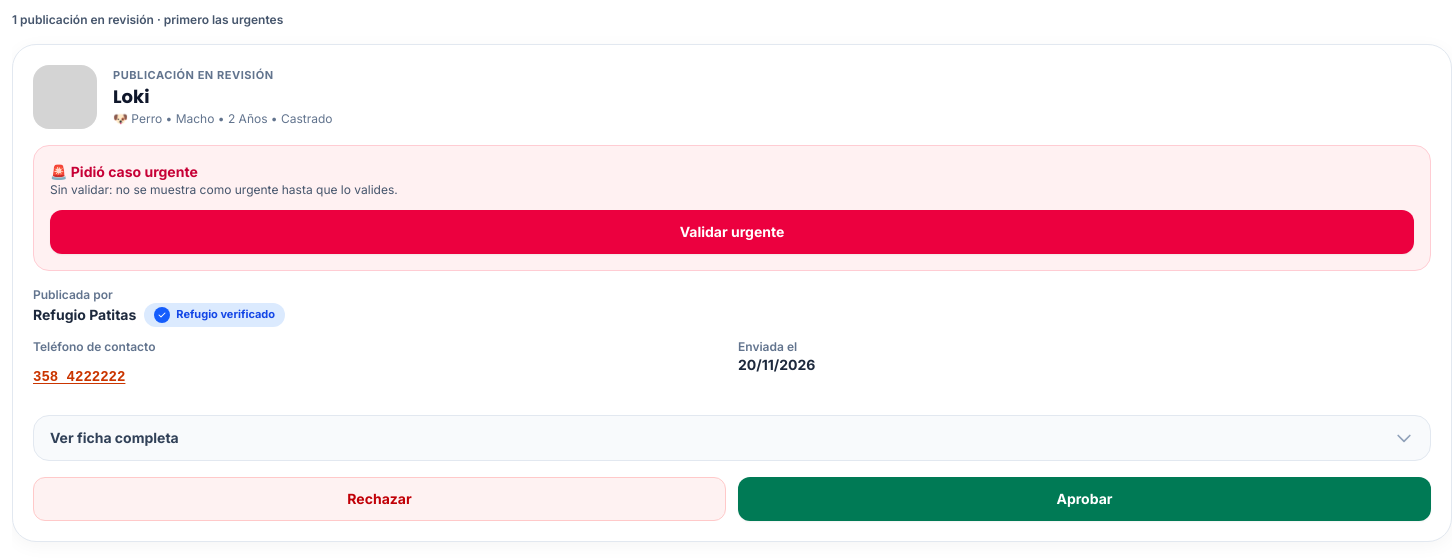
Scenario: PetReviewQueue › valida y quita la validación del caso urgente sin sacar la mascota de la cola
Later steps or results of the test are not shown.
Click the button "Validar urgente". click: (732, 232)
box: [50,210,1414,254]
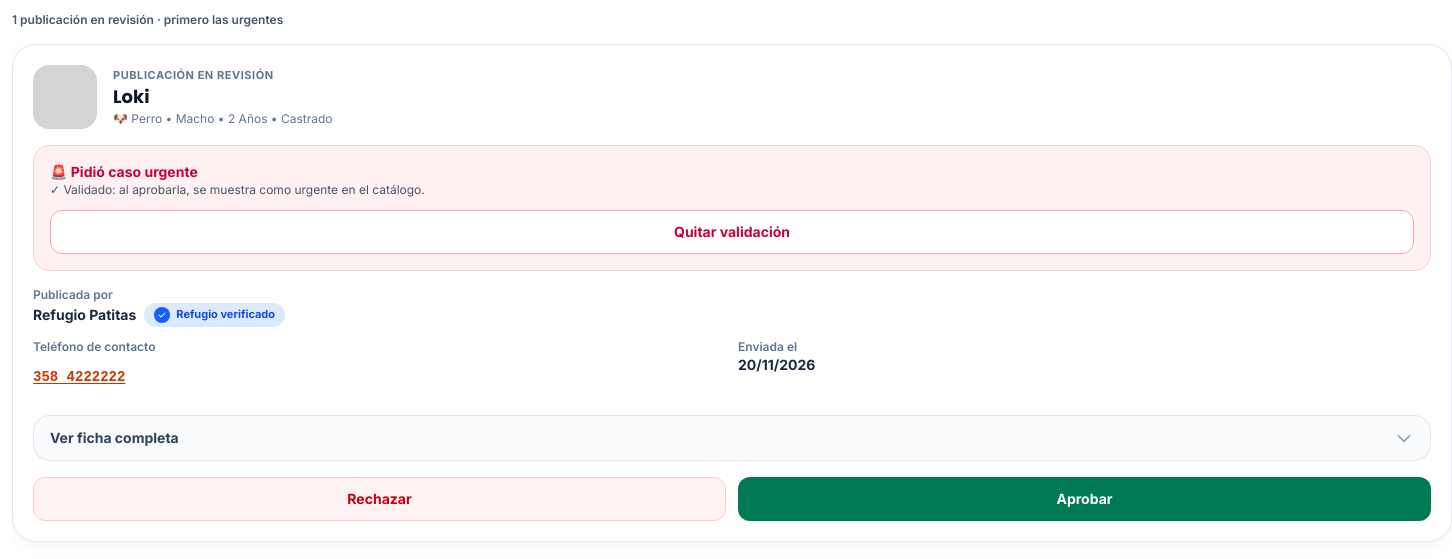
Expected: the button "Quitar validación" is pressed
Click the button "Quitar validación". click: (732, 232)
box: [50,210,1414,254]
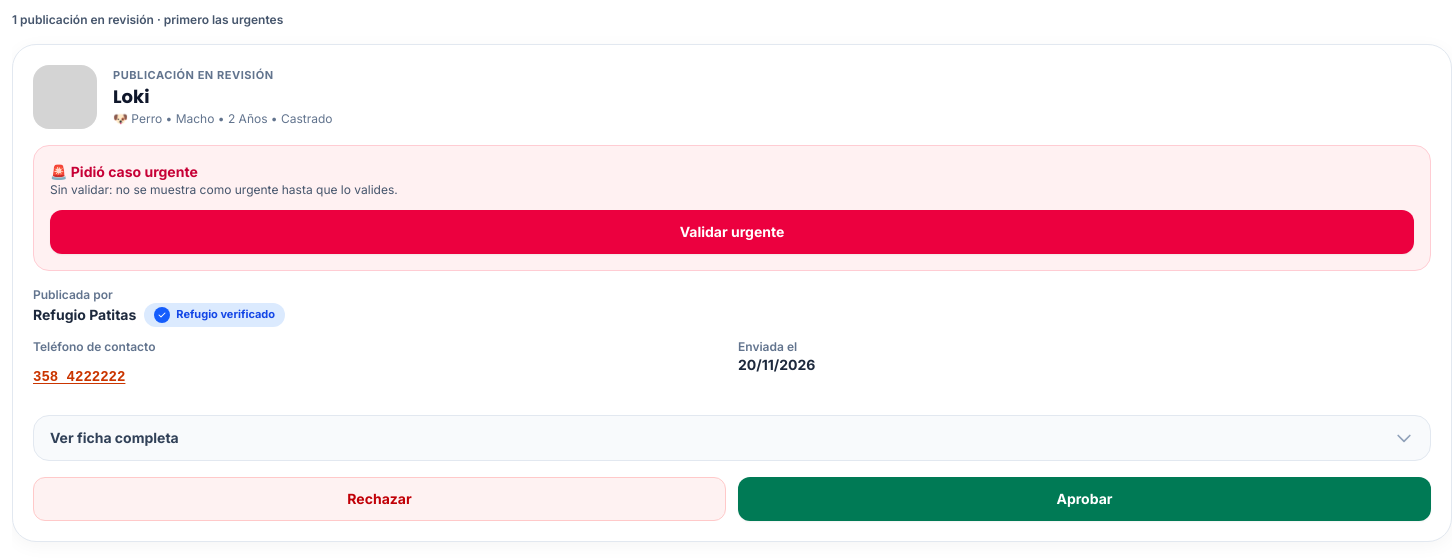
Expected: the button "Validar urgente" is shown, [50,210,1414,254]
